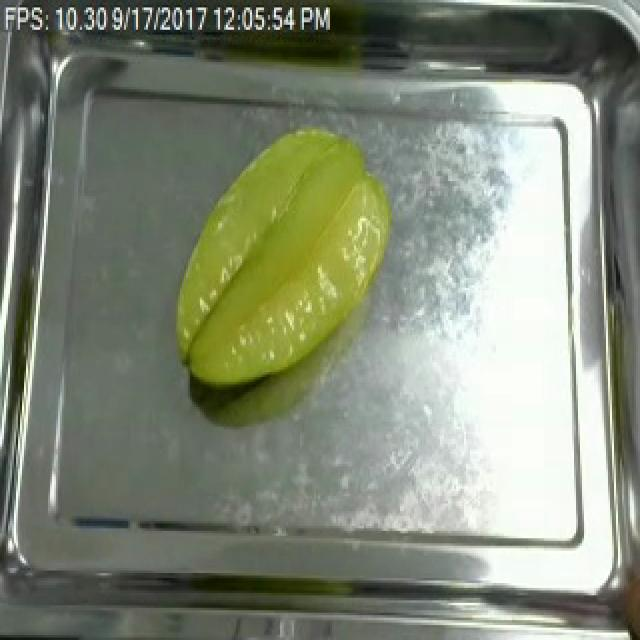fruit: (160, 111, 402, 406)
